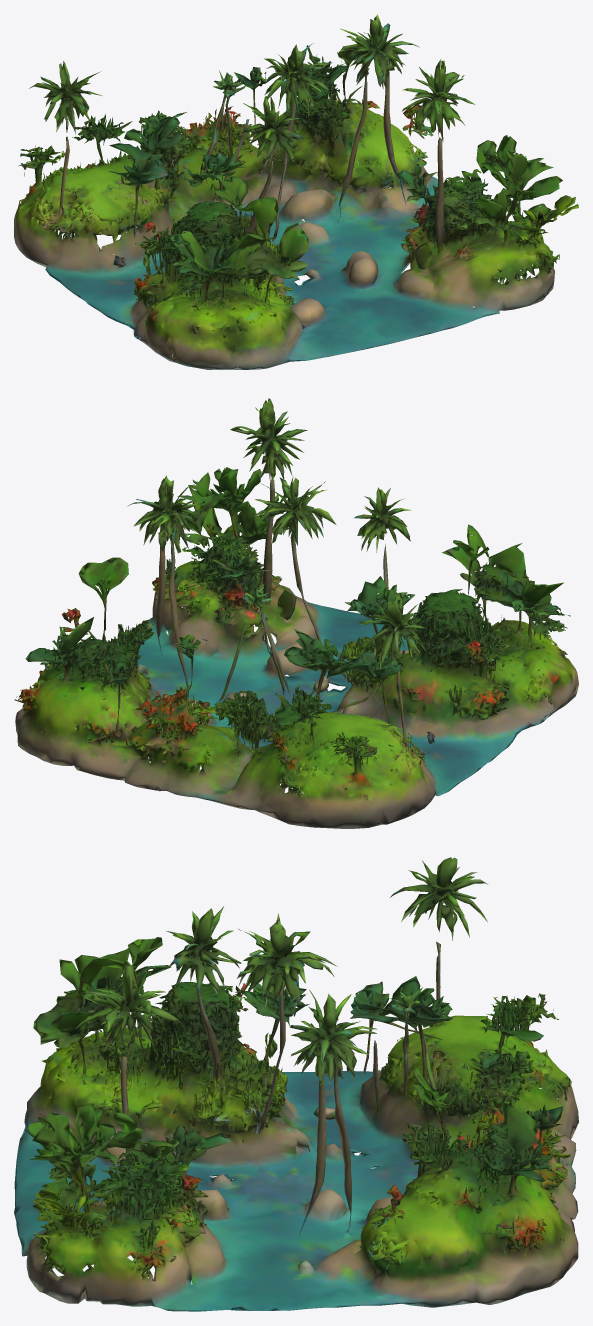
Rendered from Meshy_AI_Jungle_river_20250405_texture.glb.
The picture shows the model from 3 angles, top to bottom: view 1: azimuth 30°, elevation 25°; view 2: azimuth 150°, elevation 25°; view 3: azimuth 270°, elevation 25°; orthographic projection. The views are drawn at different scales.
Bounding box in the file's own units: 1.99 × 1.12 × 1.97.
Materials: 1 (1 with a texture image).
